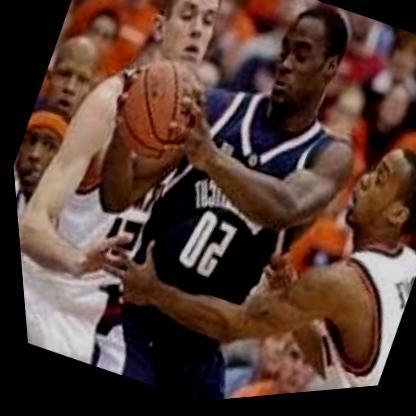basketball: (88, 39, 227, 183)
